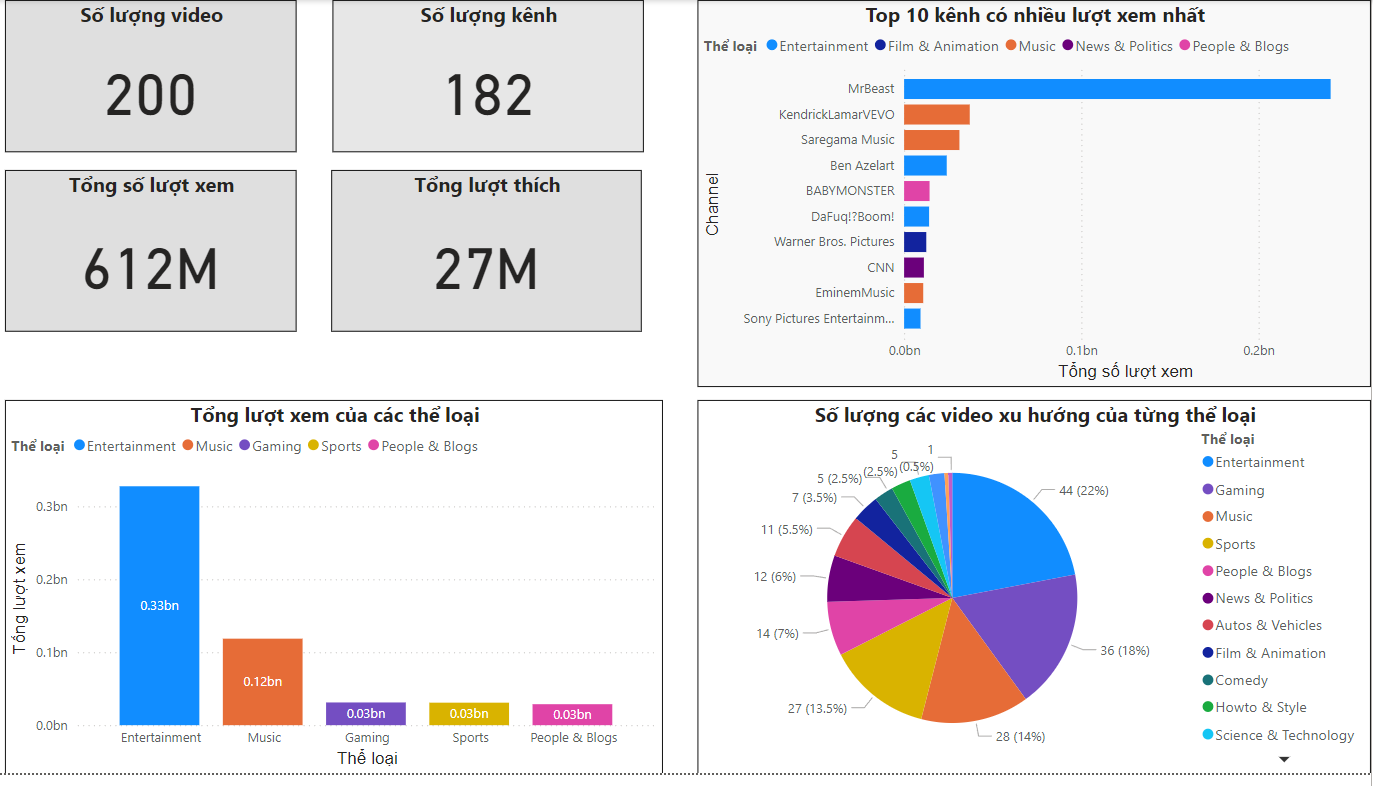

The page's visual inventory and layout, read from the dashboard file:
{"tool":"powerbi","page":{"name":"Page 1","canvas":[1280,720],"ordinal":0},"visuals":[{"type":"pieChart","title":"Số lượng các video xu hướng của từng thể loại","fields":{"Category":["trending_video.category"],"Y":["trending_video.id"]},"box":[653.2,372.2,626.8,348.2],"z":0},{"type":"columnChart","title":"Tổng lượt xem của các thể loại","fields":{"Category":["trending_video.category"],"Y":["trending_video.viewCount"],"Series":["trending_video.category"]},"box":[9.6,372.2,612.4,348.2],"z":1},{"type":"barChart","title":"Top 10 kênh có nhiều lượt xem nhất","fields":{"Category":["trending_video.channelTitle"],"Y":["trending_video.viewCount"],"Series":["trending_video.category"]},"box":[653.2,0,626.8,360.2],"z":2},{"type":"card","title":"Số lượng video","fields":{"Values":["trending_video.id"]},"box":[9.6,0,271.4,141.7],"z":3},{"type":"card","title":"Số lượng kênh","fields":{"Values":["trending_video.channelTitle"]},"box":[313.4,0,289.4,141.7],"z":4},{"type":"card","title":"Tổng số lượt xem","fields":{"Values":["trending_video.viewCount"]},"box":[9.6,158.5,271.4,150.1],"z":5},{"type":"card","title":"Tổng lượt thích","fields":{"Values":["trending_video.likeCount"]},"box":[313,158,289,150],"z":6}]}

Visuals, with their boxes in screenshot pixels (x1, y1, x2, y2), scaled from the page's 1280x720 canvas onto the 1373x786 screenshot:
"Số lượng các video xu hướng của từng thể loại" pieChart: left=701, top=406, right=1372, bottom=785
"Tổng lượt xem của các thể loại" columnChart: left=10, top=406, right=667, bottom=785
"Top 10 kênh có nhiều lượt xem nhất" barChart: left=701, top=0, right=1372, bottom=393
"Số lượng video" card: left=10, top=0, right=301, bottom=155
"Số lượng kênh" card: left=336, top=0, right=647, bottom=155
"Tổng số lượt xem" card: left=10, top=173, right=301, bottom=337
"Tổng lượt thích" card: left=336, top=172, right=646, bottom=336
